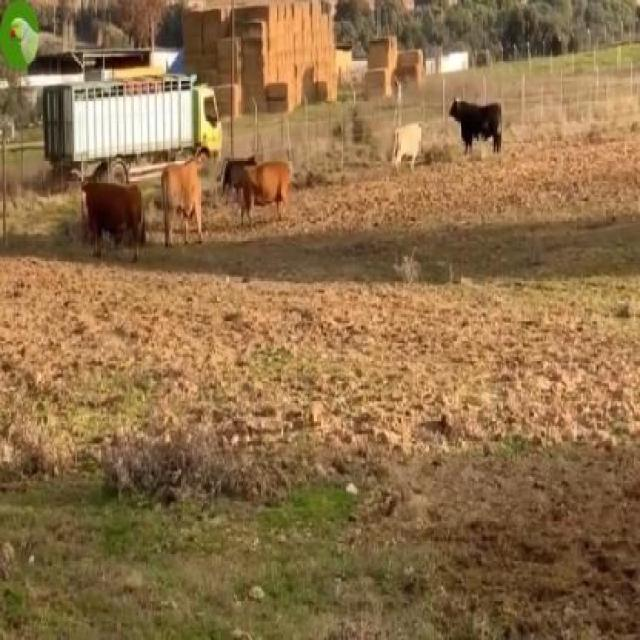Cow: (85, 184, 142, 258), (240, 158, 291, 232), (449, 100, 502, 162)
